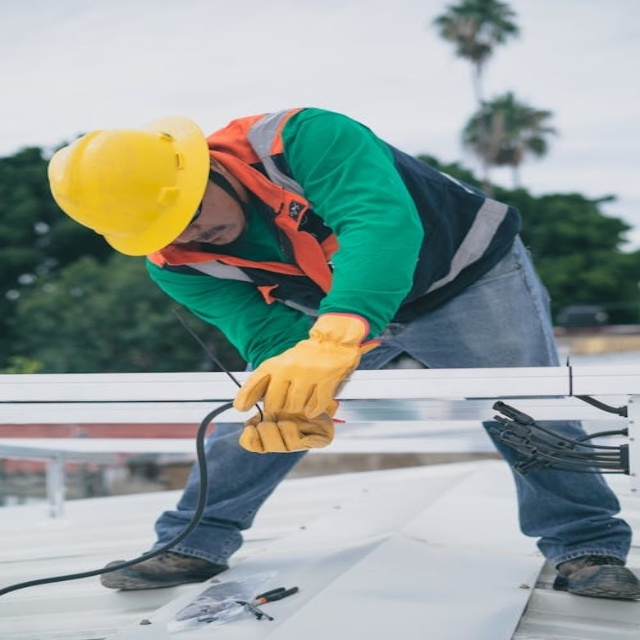Guantes: (231, 314, 376, 452)
Sin_mascara: (198, 207, 242, 251)
